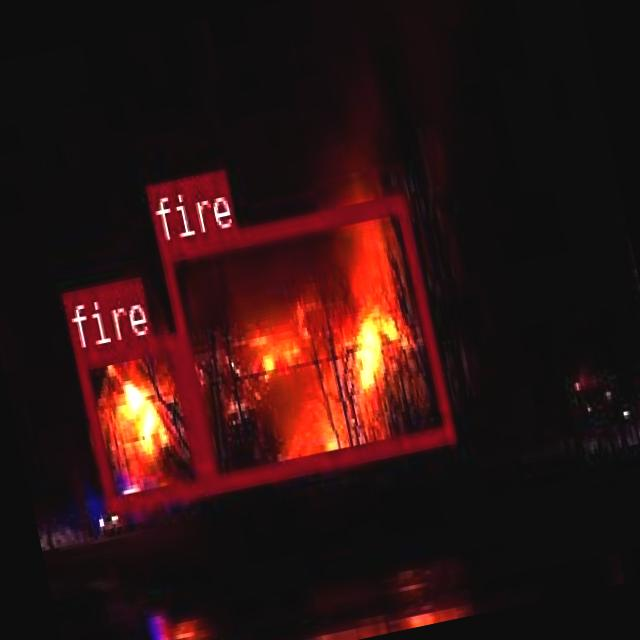fire: (157, 193, 452, 490), (73, 330, 206, 510)
